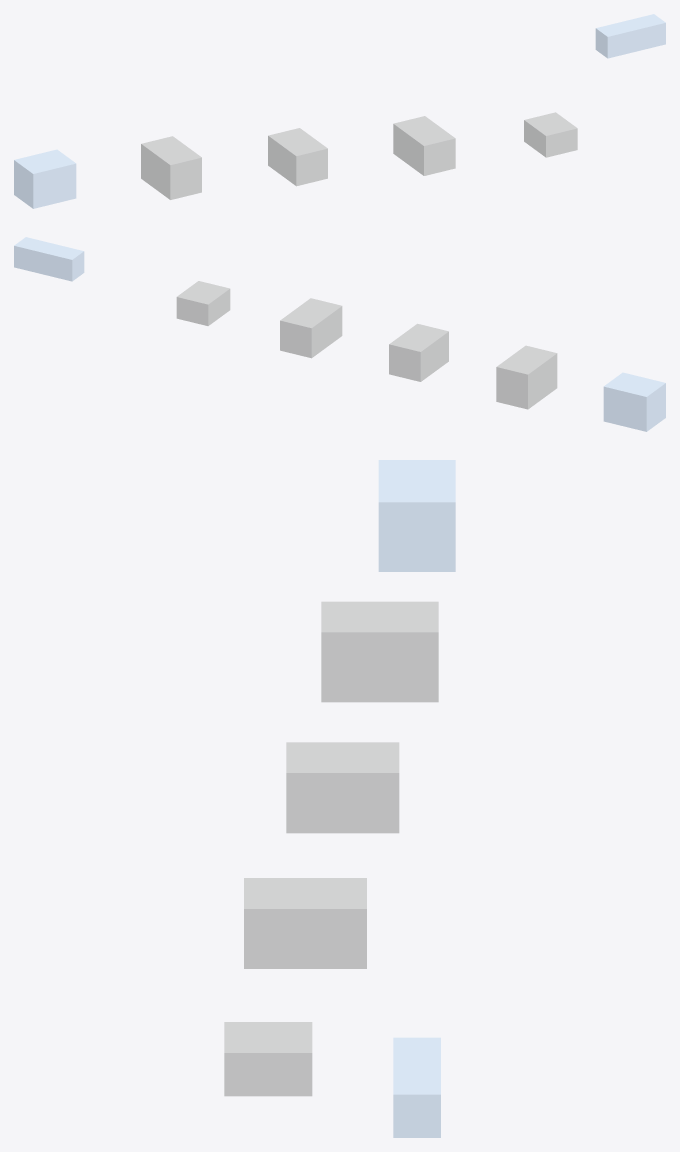
The picture shows the model from 3 angles, top to bottom: view 1: azimuth 30°, elevation 25°; view 2: azimuth 150°, elevation 25°; view 3: azimuth 270°, elevation 25°; orthographic projection. The views are drawn at different scales.
Parts seen in each view (by area): view 1: Stage 1 ×3 Bottleneck, Input / stem, Stage 3 ×6 Bottleneck, Stage 2 ×4 Bottleneck, Pooling / classifier, Stage 4 ×3 Bottleneck; view 2: Stage 1 ×3 Bottleneck, Input / stem, Stage 3 ×6 Bottleneck, Stage 2 ×4 Bottleneck, Pooling / classifier, Stage 4 ×3 Bottleneck; view 3: Stage 1 ×3 Bottleneck, Stage 3 ×6 Bottleneck, Stage 2 ×4 Bottleneck, Input / stem, Stage 4 ×3 Bottleneck, Pooling / classifier.
Boxes of the visible parts, x1=… form: Stage 1 ×3 Bottleneck: x1=141, y1=136, x2=201, y2=199; Input / stem: x1=14, y1=149, x2=76, y2=208; Stage 3 ×6 Bottleneck: x1=393, y1=116, x2=455, y2=175; Stage 2 ×4 Bottleneck: x1=268, y1=128, x2=327, y2=186; Pooling / classifier: x1=595, y1=14, x2=665, y2=58; Stage 4 ×3 Bottleneck: x1=524, y1=112, x2=577, y2=157; Stage 1 ×3 Bottleneck: x1=496, y1=345, x2=557, y2=409; Input / stem: x1=603, y1=372, x2=665, y2=431; Stage 3 ×6 Bottleneck: x1=280, y1=298, x2=342, y2=358; Stage 2 ×4 Bottleneck: x1=389, y1=323, x2=448, y2=381; Pooling / classifier: x1=14, y1=237, x2=84, y2=281; Stage 4 ×3 Bottleneck: x1=176, y1=281, x2=230, y2=325; Stage 1 ×3 Bottleneck: x1=321, y1=601, x2=438, y2=702; Stage 3 ×6 Bottleneck: x1=244, y1=878, x2=366, y2=968; Stage 2 ×4 Bottleneck: x1=286, y1=742, x2=399, y2=833; Input / stem: x1=378, y1=460, x2=455, y2=571; Stage 4 ×3 Bottleneck: x1=224, y1=1022, x2=312, y2=1096; Pooling / classifier: x1=393, y1=1037, x2=440, y2=1137.
Size of the model in its own units: 40.2 by 4.3 by 6.33.
